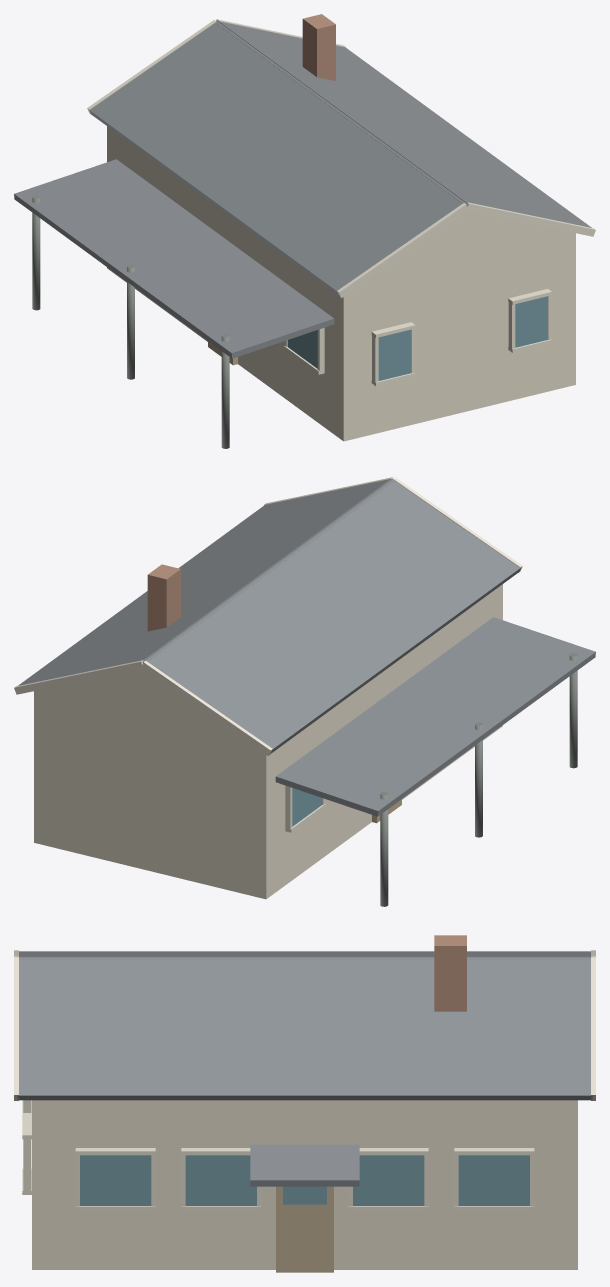
The model's file is tyne-station-modern_lod1.glb.
3 renders of one model, top to bottom at view 1: azimuth 30°, elevation 25°; view 2: azimuth 150°, elevation 25°; view 3: azimuth 270°, elevation 25°, orthographic. The views are drawn at different scales.
Visible parts, largest first — view 1: RF_Roof.001, RF_Station_Body, RF_PlatformCanopy, RF_Roof, RF_Gable, RF_StationChimney, RF_Window.009, RF_Window, RF_Vergeband.001, RF_Vergeband.003, RF_Ridge, RF_CanopyColumn.001 (+4 smaller); view 2: RF_Station_Body, RF_Roof.001, RF_PlatformCanopy, RF_Roof, RF_Gable.001, RF_StationChimney, RF_Vergeband.002, RF_Vergeband, RF_Ridge, RF_CanopyColumn, RF_CanopyColumn.001, RF_CanopyColumn.002 (+2 smaller); view 3: RF_Roof, RF_Station_Body, RF_PublicAwning, RF_Station_Door, RF_Roof.001, RF_Window.005, RF_Window.008, RF_Window.006, RF_Window.007, RF_StationChimney, RF_Ridge, RF_Station_DoorGlazing (+7 smaller).
Boxes of the visible parts, x1,y1,x2,y2 form: RF_Roof.001: (89, 22, 463, 296); RF_Station_Body: (107, 126, 575, 441); RF_PlatformCanopy: (14, 159, 334, 358); RF_Roof: (218, 21, 591, 227); RF_Gable: (366, 211, 568, 281); RF_StationChimney: (302, 14, 335, 80); RF_Window.009: (378, 329, 411, 380); RF_Window: (515, 296, 547, 347); RF_Vergeband.001: (337, 203, 468, 297); RF_Vergeband.003: (466, 202, 595, 236); RF_Ridge: (216, 21, 467, 205); RF_CanopyColumn.001: (221, 334, 229, 448); RF_Station_Body: (34, 584, 502, 899); RF_Roof.001: (146, 480, 520, 754); RF_PlatformCanopy: (275, 617, 595, 816); RF_Roof: (18, 479, 391, 685); RF_Gable.001: (41, 669, 243, 739); RF_StationChimney: (147, 564, 180, 631); RF_Vergeband.002: (141, 661, 272, 755); RF_Vergeband: (14, 660, 143, 694); RF_Ridge: (142, 479, 394, 662); RF_CanopyColumn: (380, 792, 388, 906); RF_CanopyColumn.001: (569, 653, 577, 768); RF_CanopyColumn.002: (475, 722, 482, 837); RF_Roof: (17, 958, 592, 1100); RF_Station_Body: (32, 1100, 577, 1269); RF_PublicAwning: (250, 1144, 359, 1186); RF_Station_Door: (276, 1186, 333, 1272); RF_Roof.001: (17, 951, 591, 957); RF_Window.005: (80, 1155, 151, 1205); RF_Window.008: (458, 1155, 529, 1205); RF_Window.006: (185, 1155, 256, 1205); RF_Window.007: (353, 1155, 424, 1205); RF_StationChimney: (434, 935, 466, 1011); RF_Ridge: (19, 957, 590, 959); RF_Station_DoorGlazing: (283, 1186, 326, 1204).
Size of the model in its own units: 14.11 by 8.7 by 15.98.
